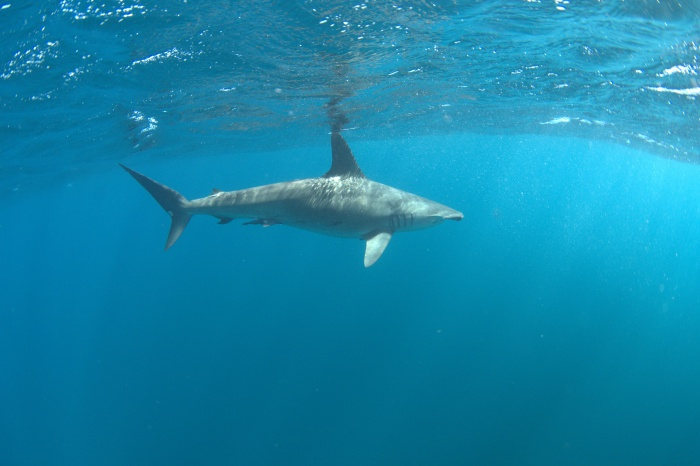Hammer: (97, 120, 477, 276)
